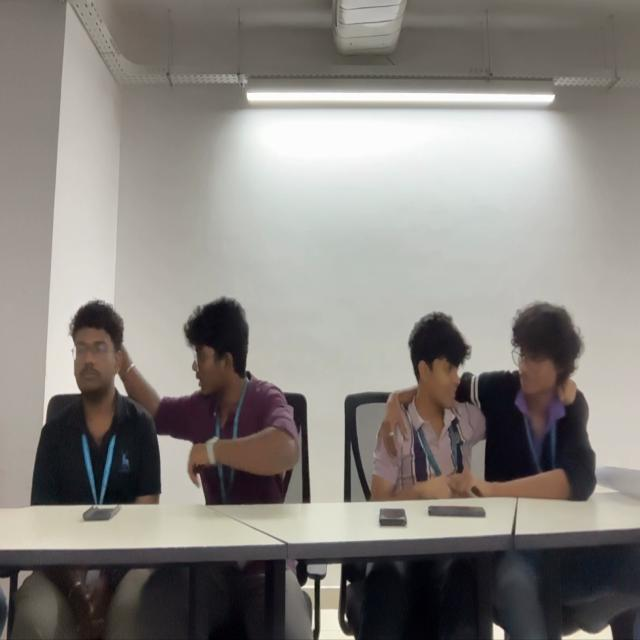Isolated: (34, 303, 160, 510), (178, 298, 298, 504)
socializing: (366, 310, 601, 499)
